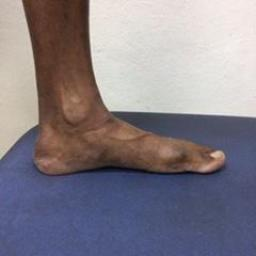Medial View -Left Foot-: (28, 83, 229, 196)
